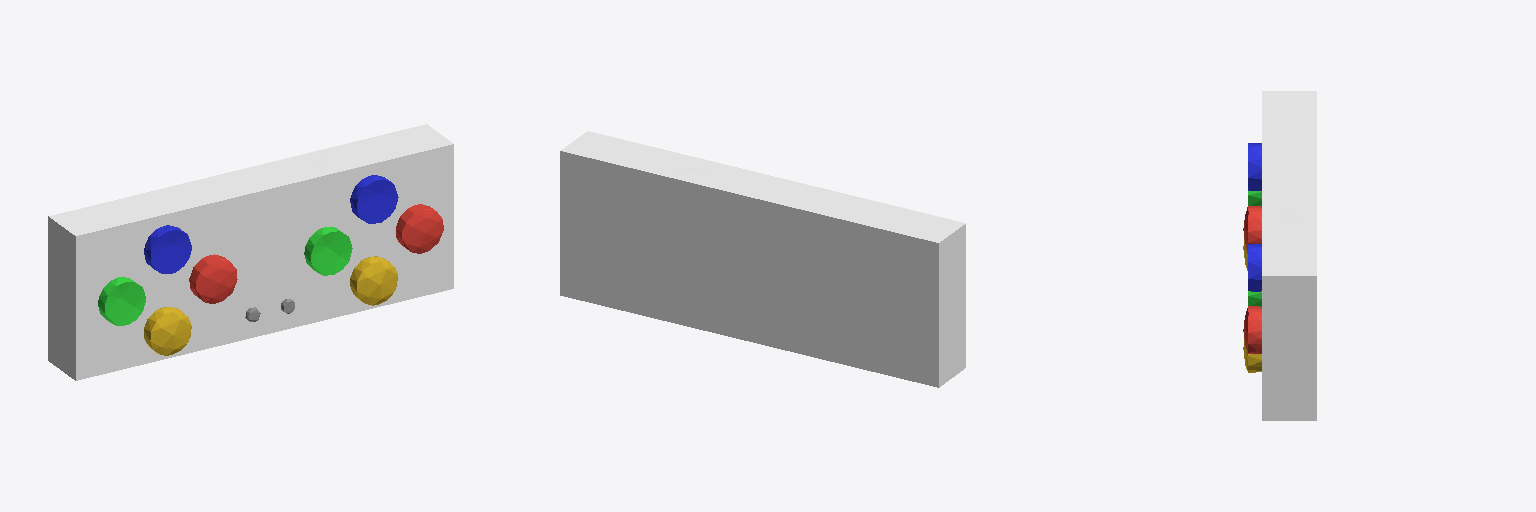
The picture shows the model from 3 angles: view 1: azimuth 30°, elevation 25°; view 2: azimuth 150°, elevation 25°; view 3: azimuth 270°, elevation 25°; orthographic projection.
Parts seen in each view (by area): view 1: buttons.002; view 2: buttons.002; view 3: buttons.002.
Part boxes in pixels (x1,y1,x2,y2): buttons.002: (48, 124, 453, 380); buttons.002: (560, 131, 965, 387); buttons.002: (1243, 91, 1316, 420).
Bounding box in the file's own units: 6.91 × 2.52 × 1.16.
1 materials, 1 textured.